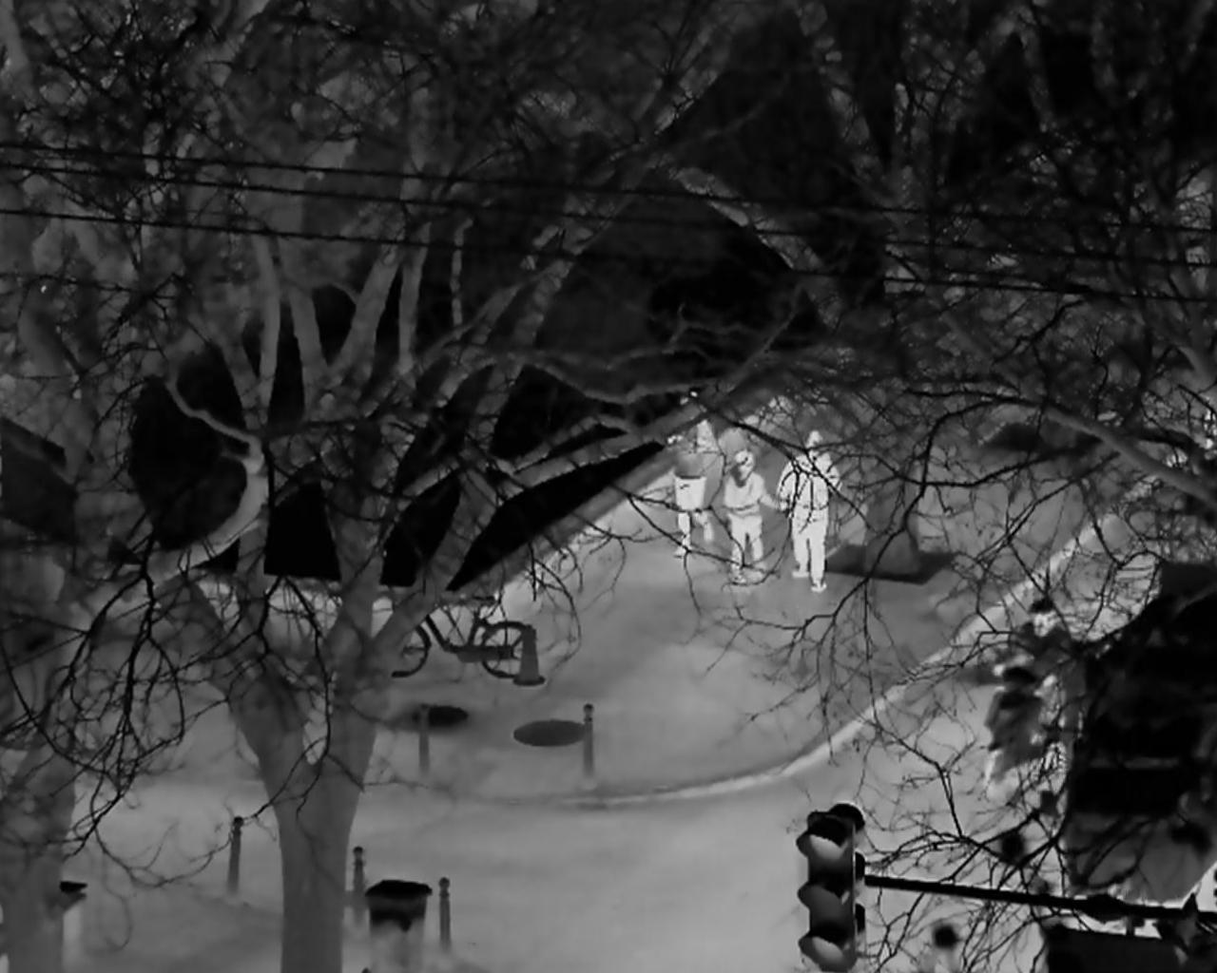person: (777, 429, 842, 592), (664, 389, 721, 558), (724, 449, 778, 586)
